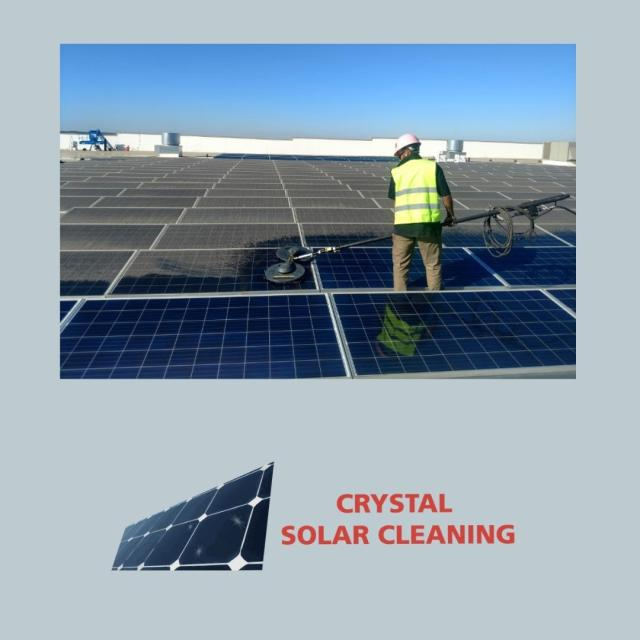dust-solar-panel: (38, 157, 572, 292)
